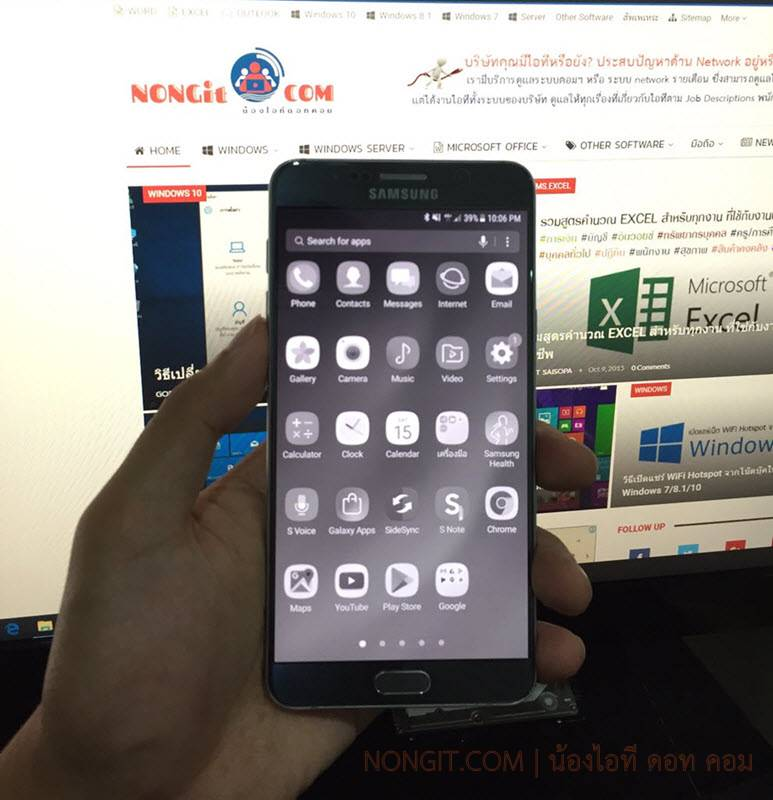Phone: (265, 157, 538, 712)
